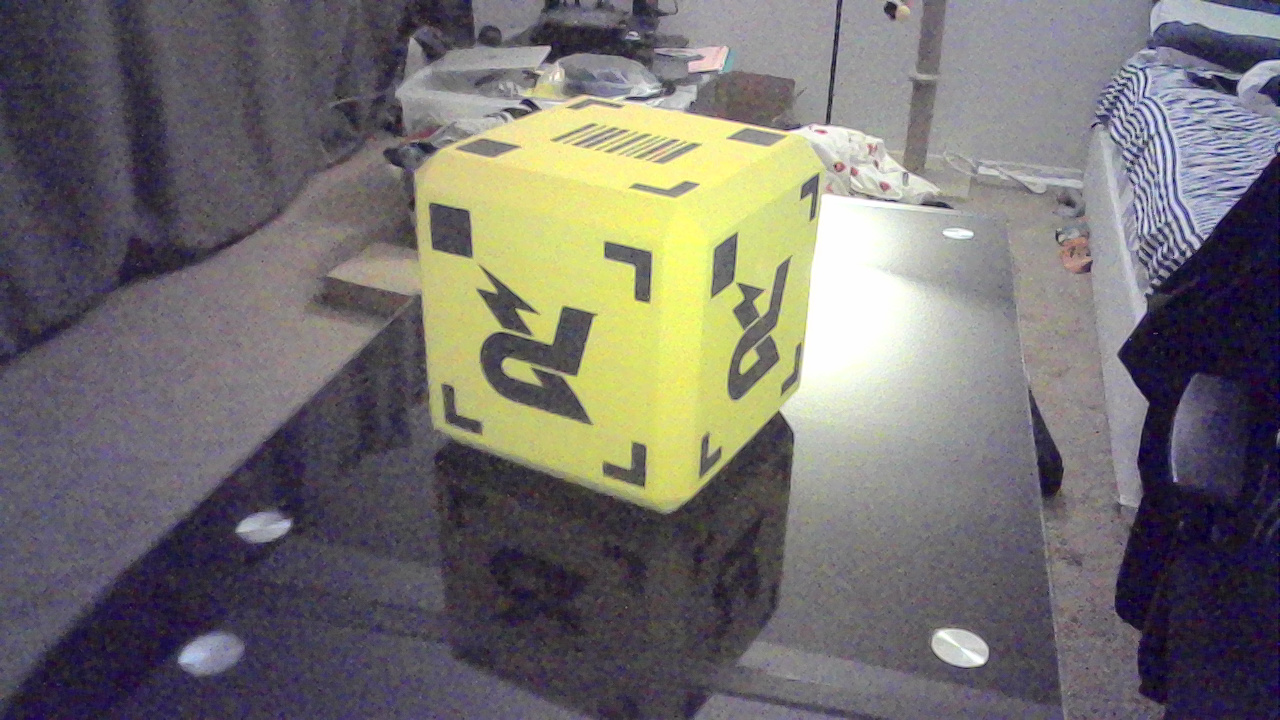Barcode: (536, 118, 730, 181)
R: (468, 246, 618, 442), (722, 265, 811, 414)
